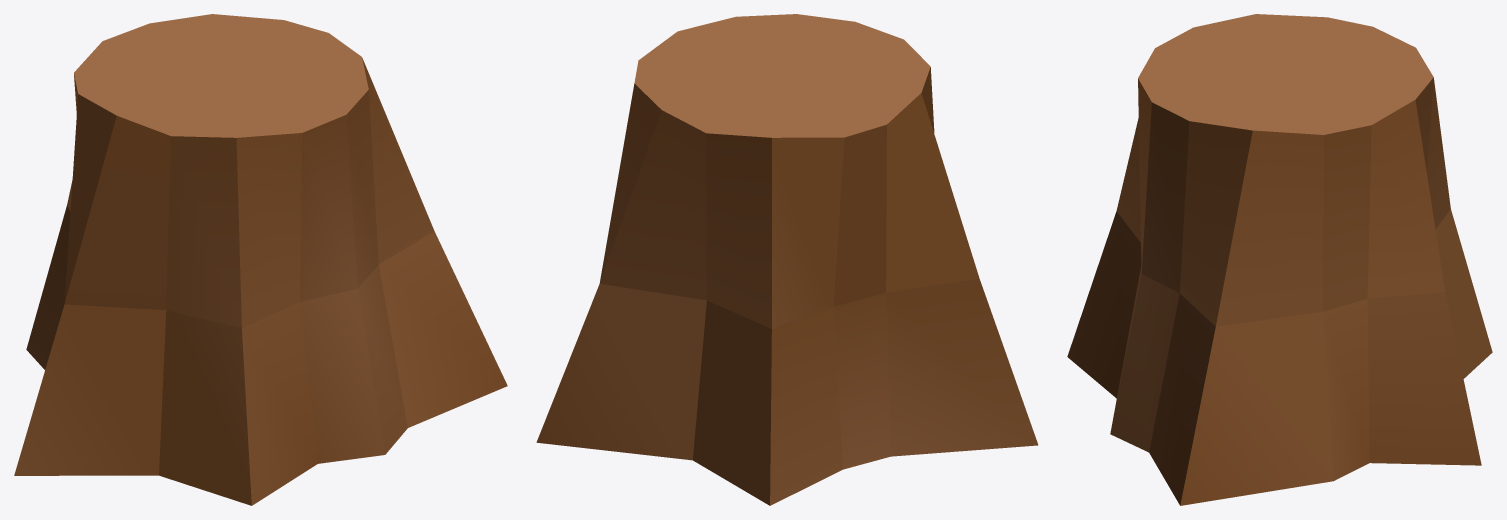
File: TreeStump2.fbx
The picture shows the model from 3 angles, left to right: view 1: azimuth 30°, elevation 25°; view 2: azimuth 150°, elevation 25°; view 3: azimuth 270°, elevation 25°; orthographic projection. The views are drawn at different scales.
Visible parts, largest first — view 1: Cylinder; view 2: Cylinder; view 3: Cylinder.
Boxes of the visible parts, <box> form: Cylinder: <box>14,14,507,505</box>; Cylinder: <box>536,14,1038,505</box>; Cylinder: <box>1067,14,1492,505</box>.
Size of the model in its own units: 269 by 186 by 218.
